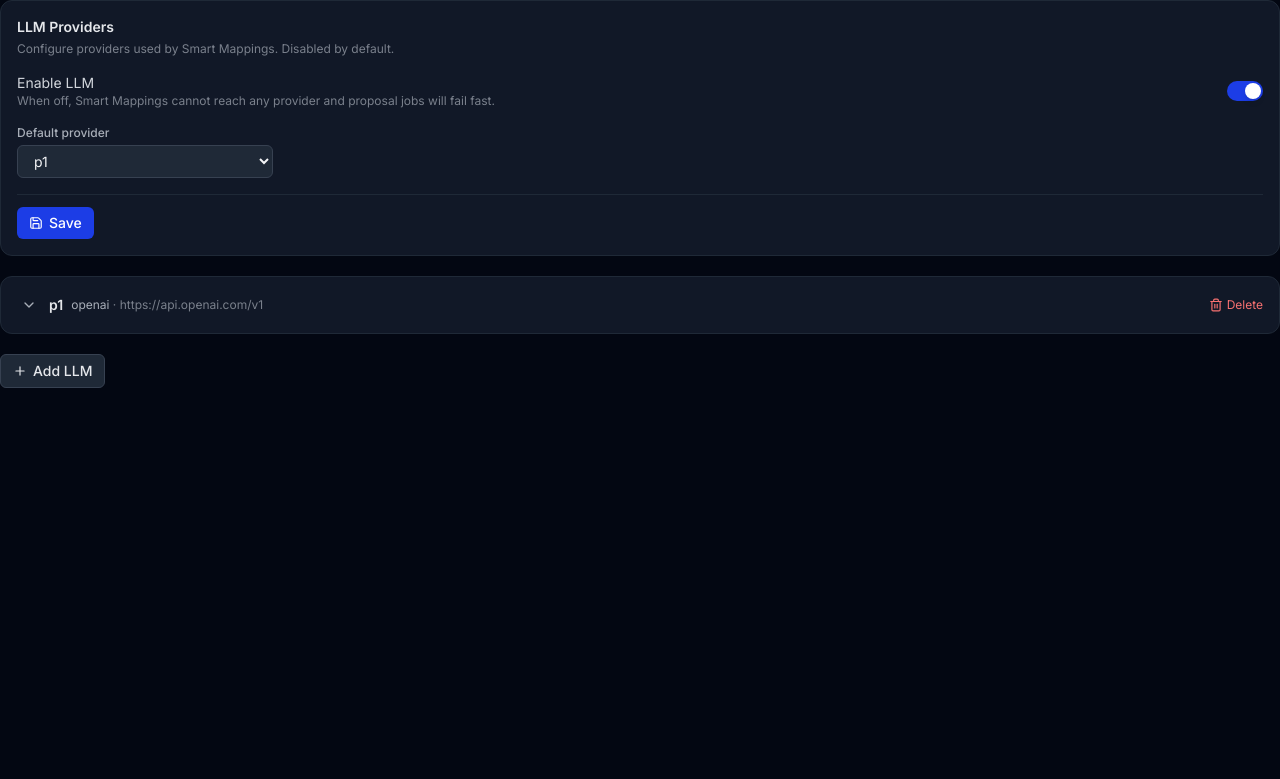
Test: ProviderCard (027 step 5: Discover-then-Probe per-card surface) › renders the "Default model to use" dropdown from available_models on first paint
The image size is (1280, 779).
Click the button named "Expand p1" at (29, 305), box x1=17 y1=293 x2=41 y2=317
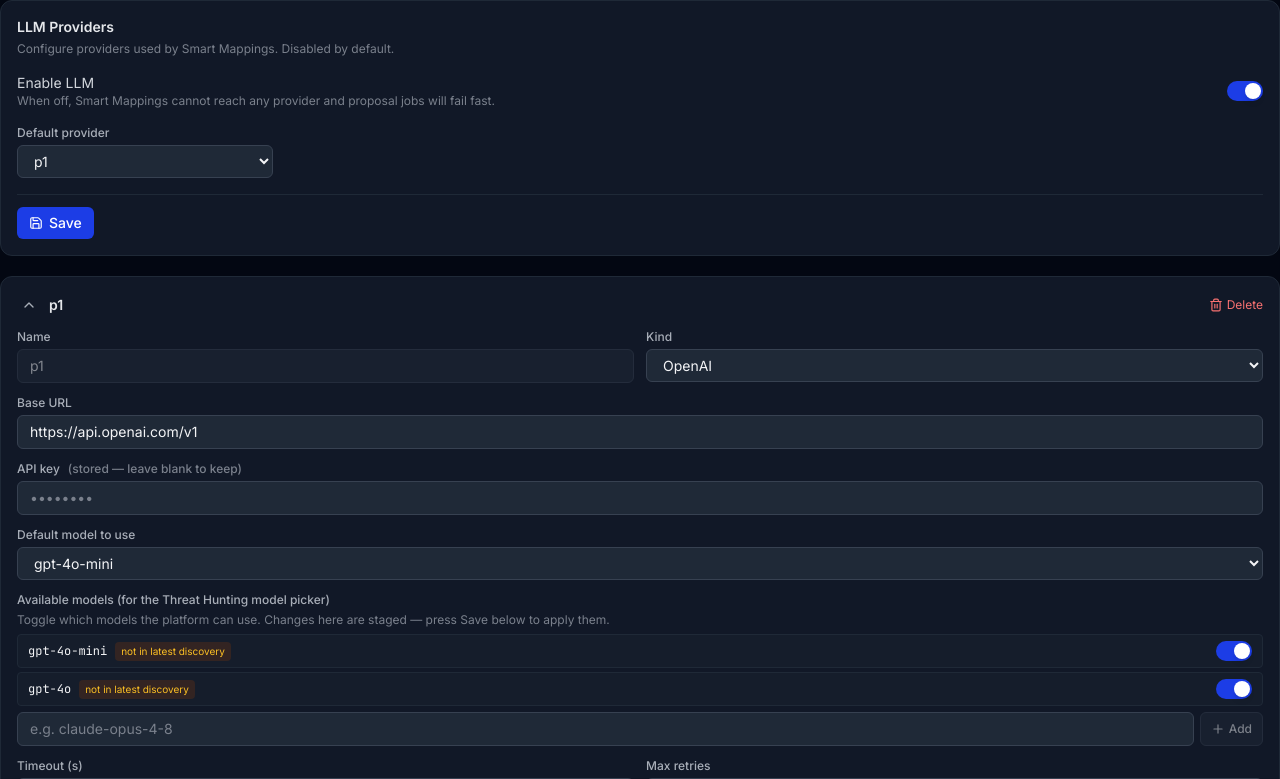
Check: the dropdown labelled "Default model to use" shows "gpt-4o-mini", box x1=17 y1=547 x2=1263 y2=580
